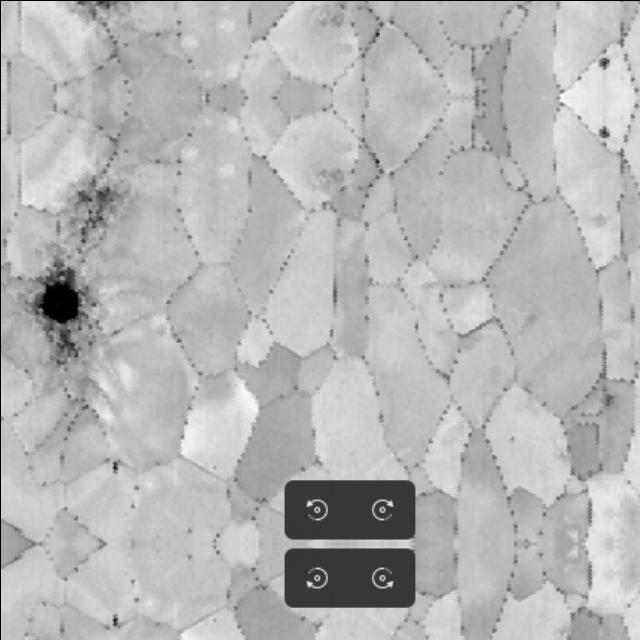good_void: (23, 258, 99, 368), (75, 178, 118, 249), (599, 382, 621, 410), (75, 0, 118, 14), (594, 120, 615, 141), (594, 51, 615, 72), (590, 209, 613, 228), (108, 458, 122, 478), (108, 608, 122, 628), (505, 430, 520, 445), (129, 480, 144, 494), (129, 592, 144, 606), (181, 524, 196, 537), (181, 549, 196, 562), (210, 461, 219, 472), (210, 614, 219, 625)
